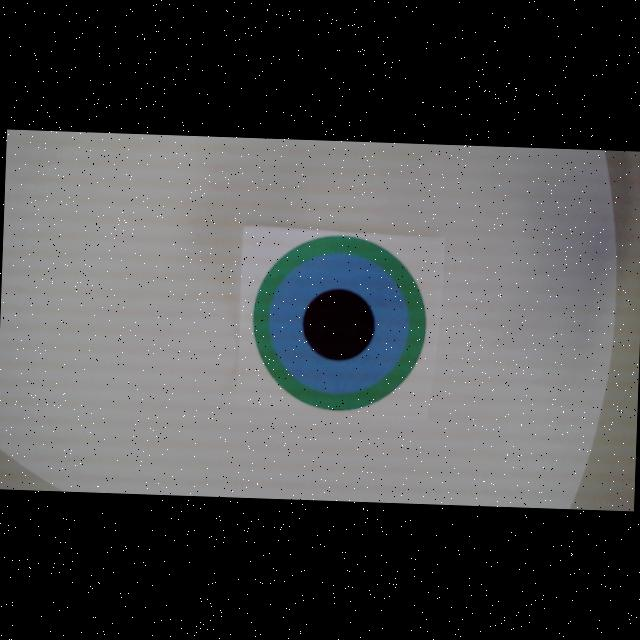COGNITIVE: (250, 232, 428, 413)
